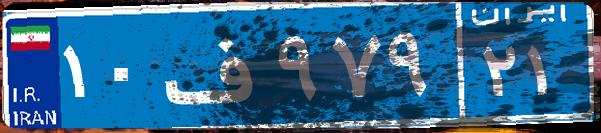0: (110, 28, 158, 105)
1: (57, 26, 110, 107), (525, 38, 570, 115)
2: (475, 38, 525, 113)
7: (330, 28, 385, 110)
9: (385, 28, 445, 110), (273, 28, 330, 110)
ف: (158, 15, 273, 115)
